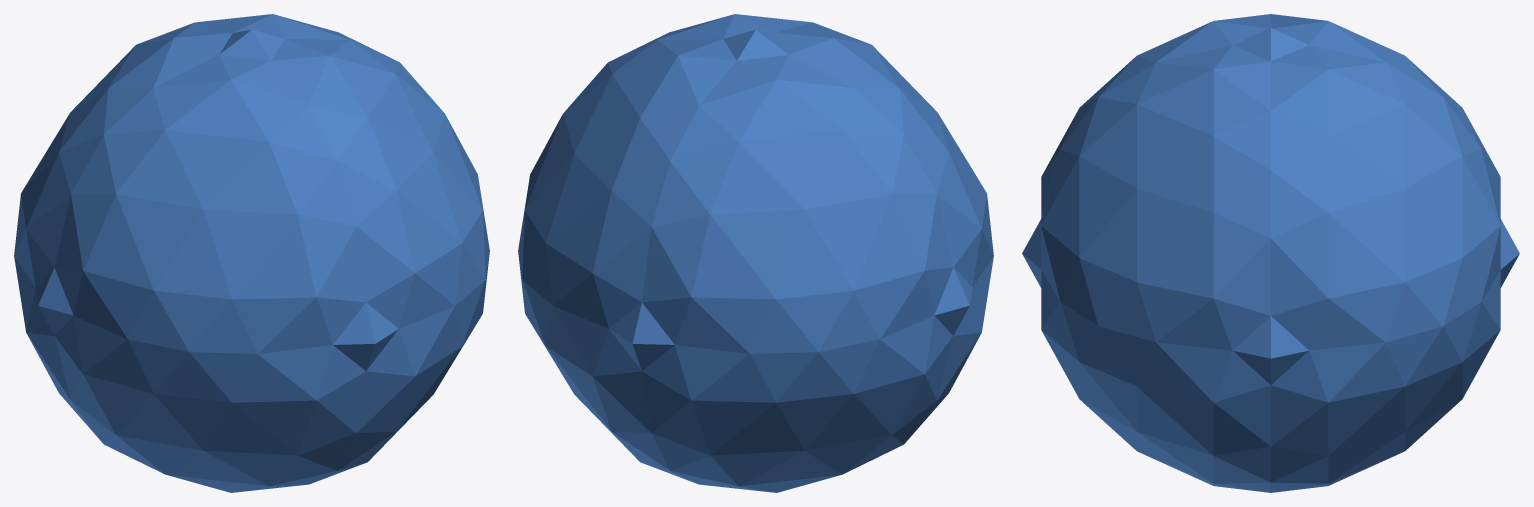
File: Neptune.glb
3 renders of one model, left to right at view 1: azimuth 30°, elevation 25°; view 2: azimuth 150°, elevation 25°; view 3: azimuth 270°, elevation 25°, orthographic.
Parts seen in each view (by area): view 1: neptune; view 2: neptune; view 3: neptune.
Part boxes in pixels (x1,y1,x2,y2): neptune: (14, 14, 489, 492); neptune: (518, 14, 993, 492); neptune: (1022, 14, 1519, 492).
Size of the model in its own units: 208 by 208 by 208.
1 material, 1 textured.
